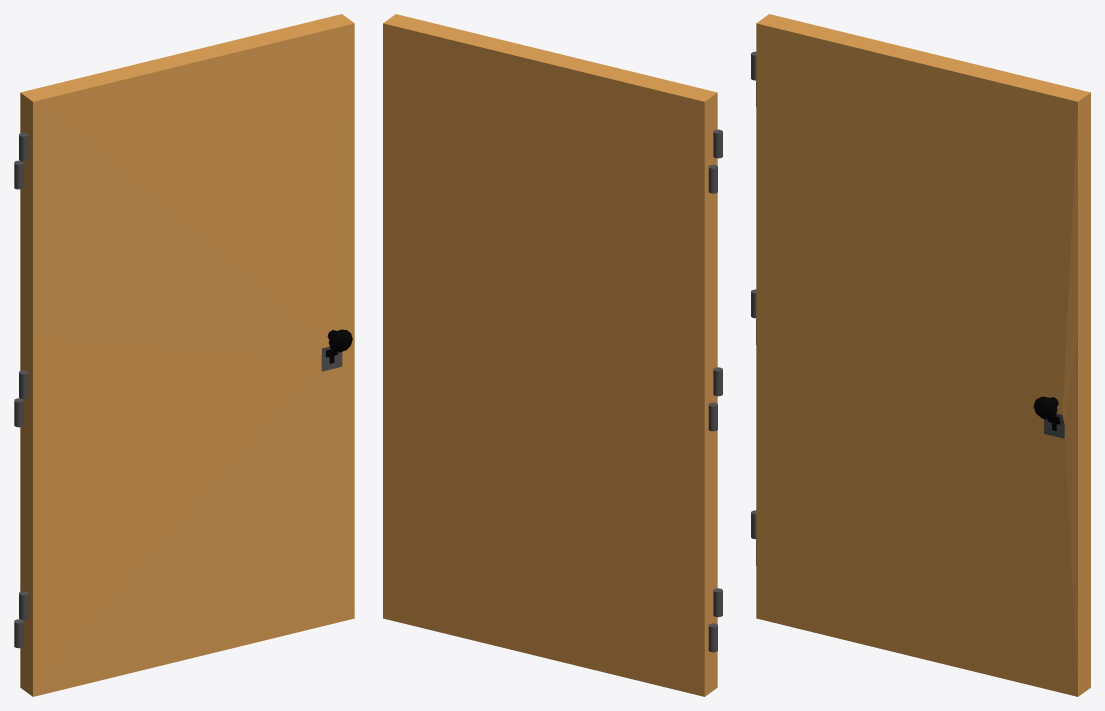
File: door.fbx
The picture shows the model from 3 angles, left to right: view 1: azimuth 30°, elevation 25°; view 2: azimuth 150°, elevation 25°; view 3: azimuth 330°, elevation 25°; orthographic projection.
Parts seen in each view (by area): view 1: Cube; view 2: Cube; view 3: Cube.
Boxes of the visible parts, x1,y1,x2,y2 form: Cube: [14, 14, 354, 696]; Cube: [383, 14, 722, 696]; Cube: [751, 14, 1090, 696].
Size of the model in its own units: 206 by 354 by 27.56.
